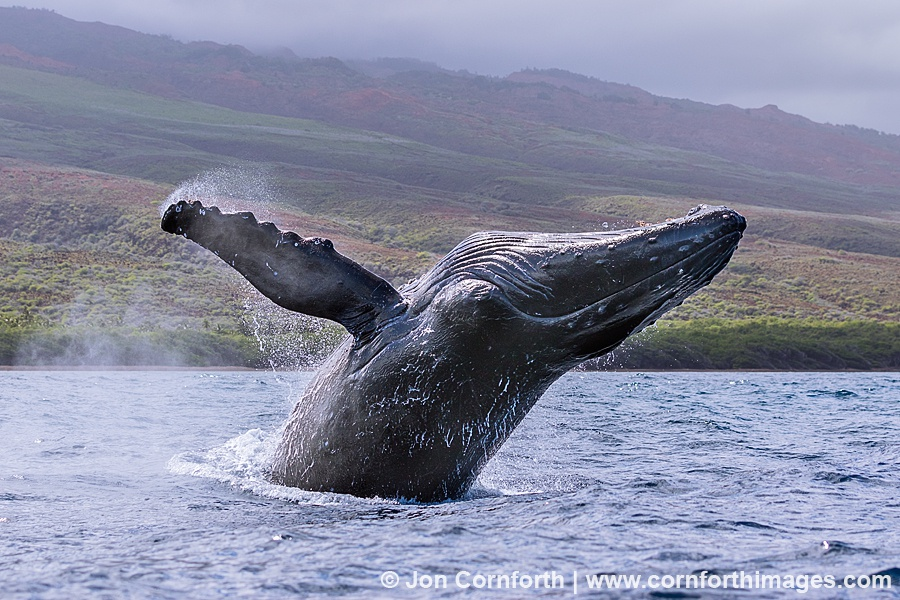humpback: (268, 203, 745, 483)
